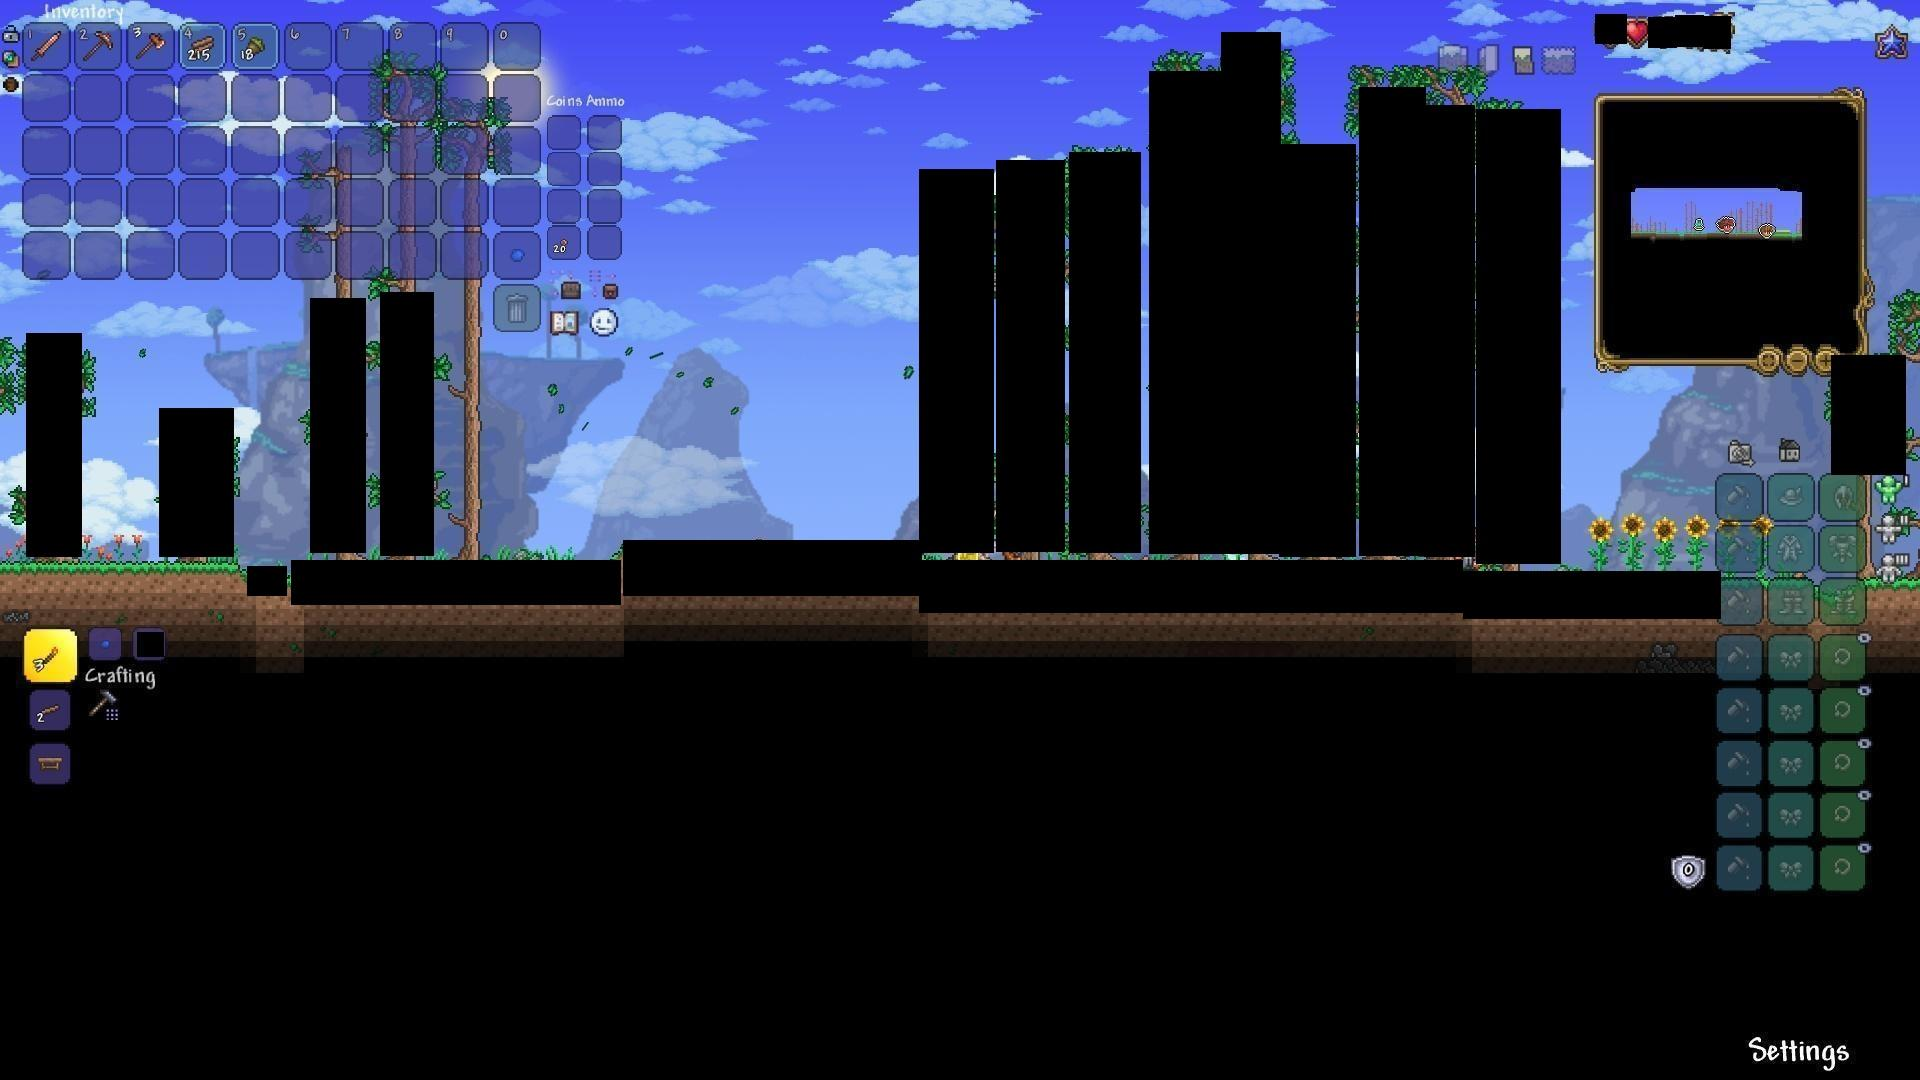dirt: (0, 560, 248, 608)
heart: (1625, 17, 1652, 47)
tree: (448, 289, 488, 550)
wood: (189, 32, 216, 61)
workbench: (36, 753, 67, 775)
